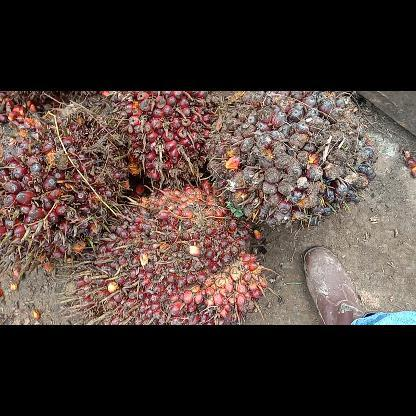Kurang masak: (208, 90, 380, 233)
TBS masak: (67, 180, 272, 324), (0, 99, 133, 279), (103, 91, 219, 193)
